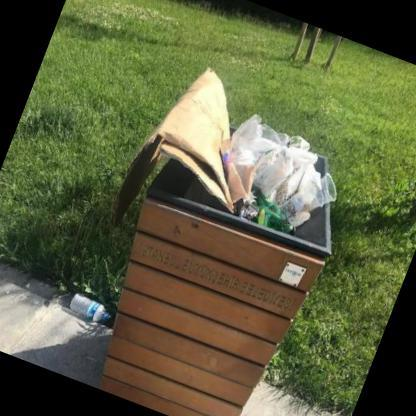Garbage: (129, 52, 364, 250), (97, 50, 266, 260), (202, 108, 356, 253), (216, 105, 326, 198), (277, 176, 331, 228), (238, 200, 292, 241), (261, 138, 283, 160)
